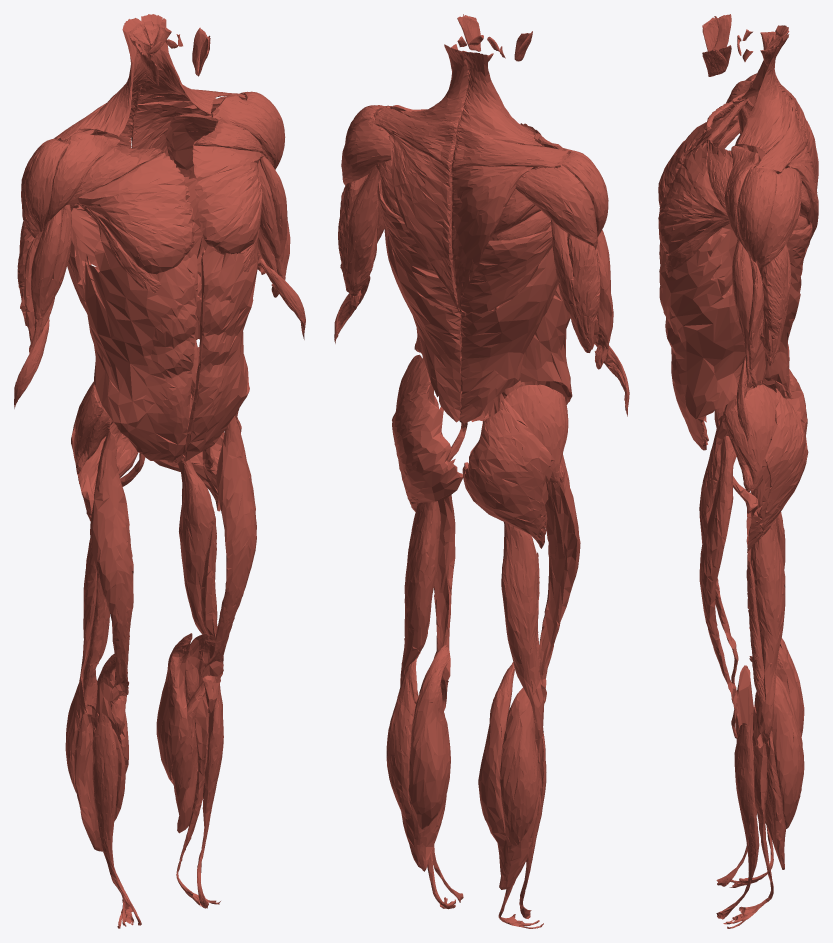
The model's file is human_muscles_full.glb.
3 renders of one model, left to right at view 1: azimuth 30°, elevation 25°; view 2: azimuth 150°, elevation 25°; view 3: azimuth 270°, elevation 25°, orthographic.
Parts seen in each view (by area): view 1: obliquus_externus_R, obliquus_externus_L, pectoralis_major_sternocostal_R, rectus_femoris_R, rectus_femoris_L, pectoralis_major_sternocostal_L, biceps_femoris_long_head_L, tibialis_anterior_R, gastrocnemius_medial_head_L, soleus_R, deltoideus_clavicular_R, trapezius_descending_R (+34 smaller); view 2: latissimus_dorsi_R, gluteus_maximus_R, latissimus_dorsi_L, trapezius_ascending_L, gluteus_maximus_L, biceps_femoris_long_head_R, trapezius_ascending_R, gastrocnemius_medial_head_L, rectus_femoris_R, gastrocnemius_lateral_head_R, biceps_femoris_long_head_L, deltoideus_spinal_R (+22 smaller); view 3: obliquus_externus_L, biceps_femoris_long_head_L, gluteus_maximus_L, pectoralis_major_sternocostal_L, rectus_femoris_L, gastrocnemius_lateral_head_L, gluteus_medius_L, trapezius_descending_L, deltoideus_acromial_L, tibialis_anterior_L, deltoideus_spinal_L, latissimus_dorsi_L (+30 smaller).
Boxes of the visible parts, bbox=[...] form: obliquus_externus_R: bbox=[82, 227, 197, 463]; obliquus_externus_L: bbox=[185, 242, 258, 461]; pectoralis_major_sternocostal_R: bbox=[66, 152, 194, 274]; rectus_femoris_R: bbox=[90, 430, 133, 735]; rectus_femoris_L: bbox=[202, 416, 256, 713]; pectoralis_major_sternocostal_L: bbox=[192, 145, 264, 254]; biceps_femoris_long_head_L: bbox=[177, 456, 220, 681]; tibialis_anterior_R: bbox=[93, 713, 141, 925]; gastrocnemius_medial_head_L: bbox=[156, 633, 192, 784]; soleus_R: bbox=[74, 704, 125, 851]; deltoideus_clavicular_R: bbox=[43, 132, 119, 229]; trapezius_descending_R: bbox=[80, 18, 151, 136]; latissimus_dorsi_R: bbox=[459, 225, 558, 423]; gluteus_maximus_R: bbox=[462, 398, 554, 548]; latissimus_dorsi_L: bbox=[377, 178, 461, 422]; trapezius_ascending_L: bbox=[388, 132, 459, 311]; gluteus_maximus_L: bbox=[392, 381, 463, 511]; biceps_femoris_long_head_R: bbox=[501, 522, 543, 739]; trapezius_ascending_R: bbox=[451, 166, 537, 311]; gastrocnemius_medial_head_L: bbox=[408, 645, 450, 829]; rectus_femoris_R: bbox=[539, 454, 580, 703]; gastrocnemius_lateral_head_R: bbox=[499, 687, 538, 845]; biceps_femoris_long_head_L: bbox=[400, 501, 440, 685]; deltoideus_spinal_R: bbox=[515, 165, 597, 249]; obliquus_externus_L: bbox=[659, 233, 765, 450]; biceps_femoris_long_head_L: bbox=[750, 519, 785, 733]; gluteus_maximus_L: bbox=[747, 388, 808, 552]; pectoralis_major_sternocostal_L: bbox=[658, 143, 728, 255]; rectus_femoris_L: bbox=[699, 436, 738, 738]; gastrocnemius_lateral_head_L: bbox=[771, 682, 804, 828]; gluteus_medius_L: bbox=[724, 384, 776, 493]; trapezius_descending_L: bbox=[737, 34, 791, 153]; deltoideus_acromial_L: bbox=[737, 167, 776, 261]; tibialis_anterior_L: bbox=[716, 723, 759, 919]; deltoideus_spinal_L: bbox=[756, 168, 802, 271]; latissimus_dorsi_L: bbox=[764, 218, 812, 399].
Size of the model in its own units: 0.3136 by 0.9083 by 0.1511.
